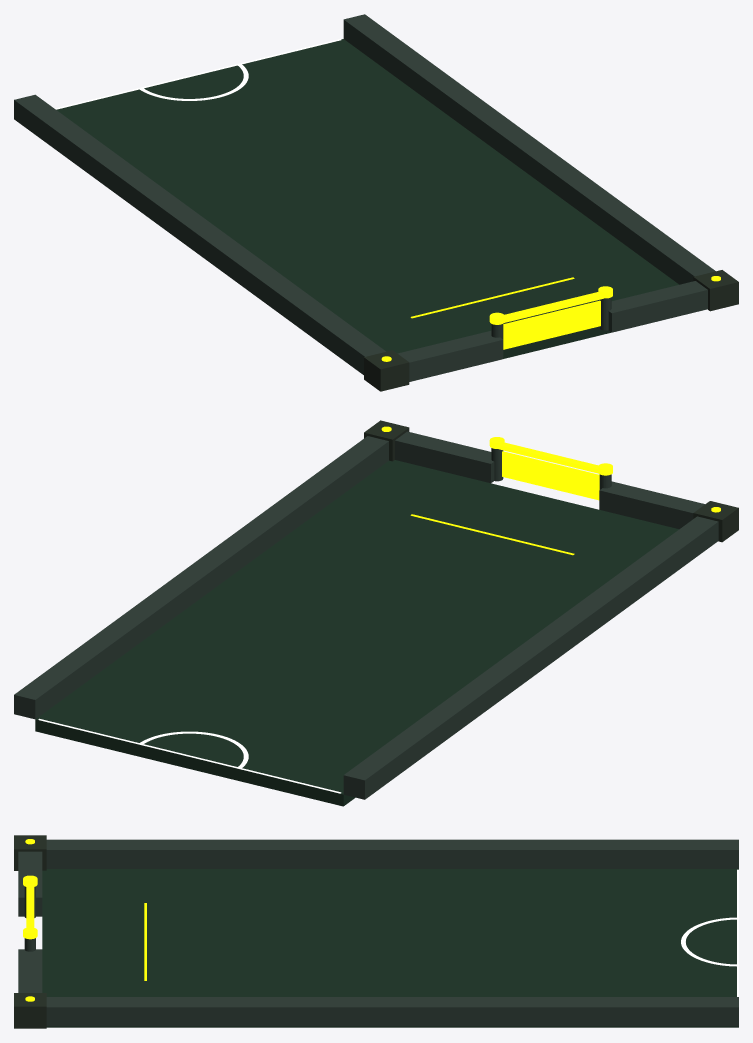
The model's file is mesa_gridiron_football_half_p2.glb.
3 views of the same model, one above another, from view 1: azimuth 30°, elevation 25°; view 2: azimuth 150°, elevation 25°; view 3: azimuth 270°, elevation 25° (orthographic). The views are drawn at different scales.
Visible parts, largest first — view 1: GridironHalfP2_Surface, GridironHalfP2_RailL, GridironHalfP2_RailR, Cube.004, Cube.002, Cube.009, Cube.006, Cube.007, Cube.008, GridironHalfP2_TopEdgeLaser; view 2: GridironHalfP2_Surface, GridironHalfP2_RailL, GridironHalfP2_RailR, Cube.004, Cube.002, Cube.009, Cube.006, Cube.008, Cube.007, GridironHalfP2_TopEdgeLaser; view 3: GridironHalfP2_Surface, GridironHalfP2_RailL, GridironHalfP2_RailR, Cube.002, Cube.007, Cube.004, Cube.006, GridironHalfP2_CenterArcOuter, Cube.008.
Part boxes in pixels (left/top/right/bottom): GridironHalfP2_Surface: left=56, top=39, right=678, bottom=358; GridironHalfP2_RailL: left=14, top=94, right=385, bottom=374; GridironHalfP2_RailR: left=343, top=14, right=715, bottom=284; Cube.004: left=608, top=281, right=707, bottom=332; Cube.002: left=397, top=331, right=503, bottom=381; Cube.009: left=503, top=300, right=600, bottom=349; Cube.006: left=364, top=350, right=409, bottom=391; Cube.007: left=693, top=270, right=738, bottom=311; Cube.008: left=504, top=292, right=603, bottom=322; GridironHalfP2_TopEdgeLaser: left=55, top=39, right=341, bottom=109; GridironHalfP2_Surface: left=35, top=460, right=678, bottom=806; GridironHalfP2_RailL: left=343, top=516, right=718, bottom=799; GridironHalfP2_RailR: left=14, top=436, right=388, bottom=719; Cube.004: left=395, top=431, right=494, bottom=483; Cube.002: left=599, top=481, right=704, bottom=529; Cube.009: left=502, top=451, right=599, bottom=500; Cube.006: left=693, top=501, right=738, bottom=542; Cube.008: left=499, top=442, right=598, bottom=473; Cube.007: left=364, top=420, right=409, bottom=461; GridironHalfP2_TopEdgeLaser: left=38, top=718, right=341, bottom=793; GridironHalfP2_Surface: left=42, top=869, right=738, bottom=1027; GridironHalfP2_RailL: left=46, top=839, right=738, bottom=868; GridironHalfP2_RailR: left=46, top=997, right=738, bottom=1026; Cube.002: left=18, top=851, right=42, bottom=916; Cube.007: left=14, top=993, right=46, bottom=1028; Cube.004: left=18, top=949, right=42, bottom=992; Cube.006: left=14, top=835, right=46, bottom=870; GridironHalfP2_CenterArcOuter: left=681, top=917, right=736, bottom=966; Cube.008: left=26, top=884, right=34, bottom=927.
Size of the model in its own units: 1.26 by 0.17 by 2.25.
